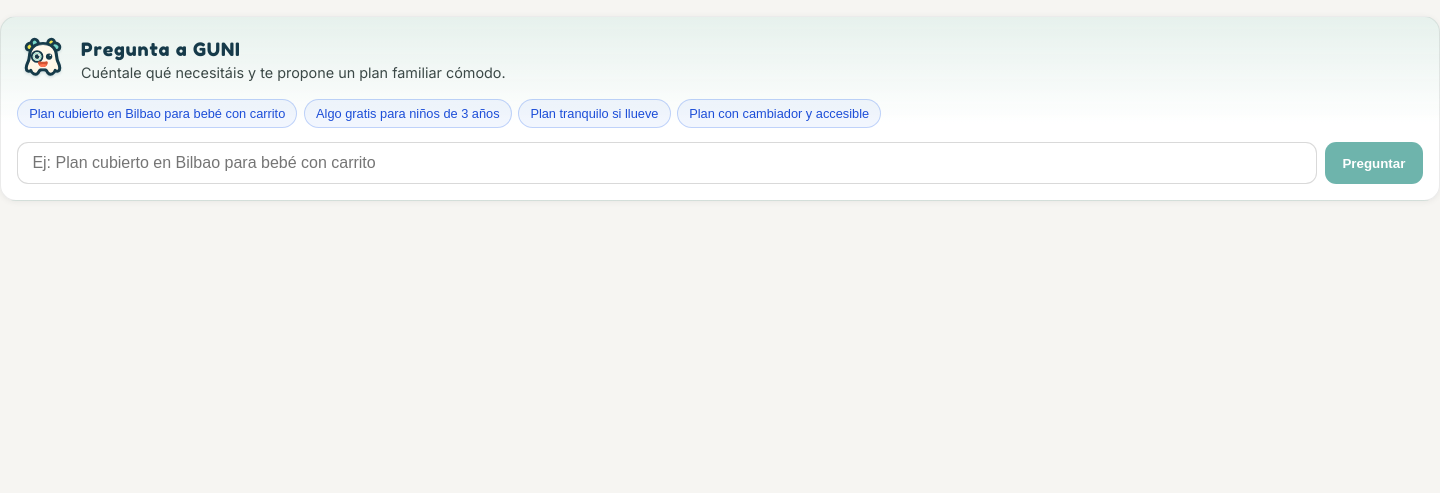
Test case: GuniPanel › modo ai con recomendación: muestra respuesta, tarjeta y CTA; sin source/mode crudos
The width and height of the screenshot is (1440, 493).
In the field named "Tu necesidad familiar": (667,163) [17,142,1317,184], type "Plan cubierto en Bilbao"
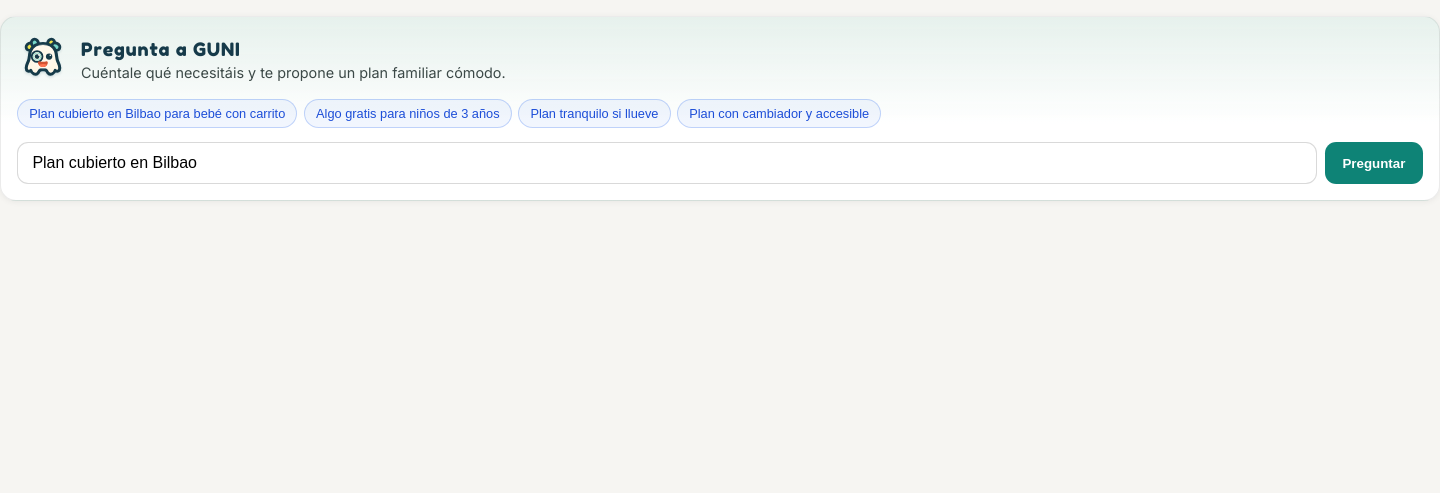
Click the button "Preguntar": (1374,163) [1325,142,1423,184]
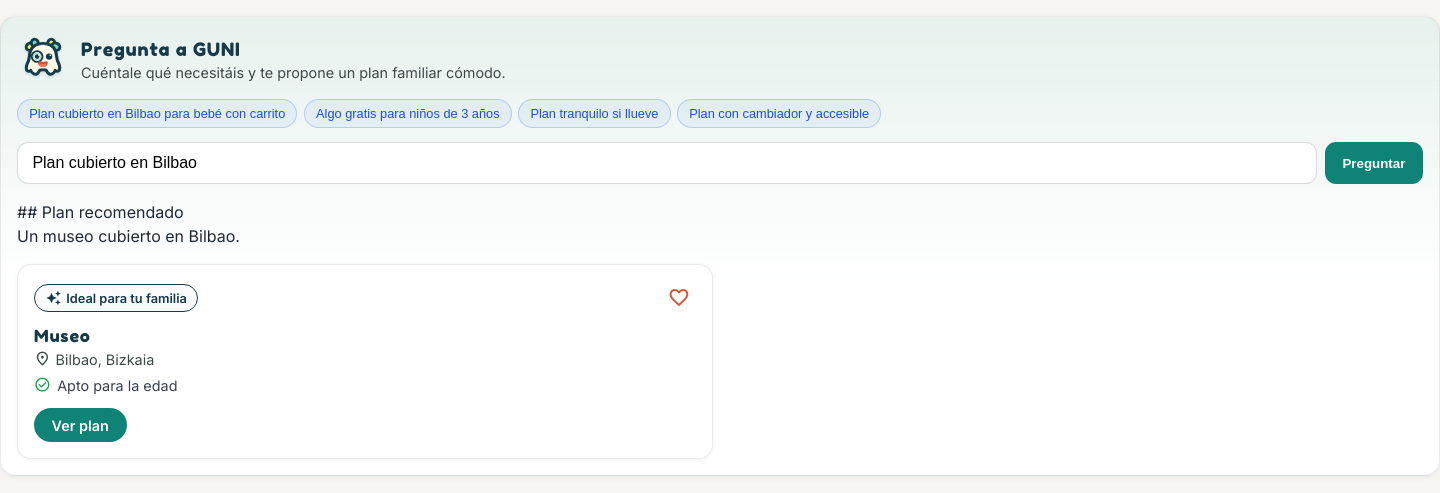
Expected: the text "## Plan recomendado Un museo cubierto en Bilbao." is shown, [17,202,240,246]
Expected: the heading "Museo" is shown, [34,326,91,346]
Expected: the link "Ver plan" is shown, [34,408,126,442]
